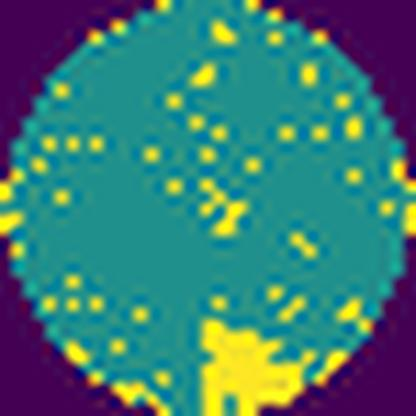Edge-Loc: (198, 314, 318, 416)
